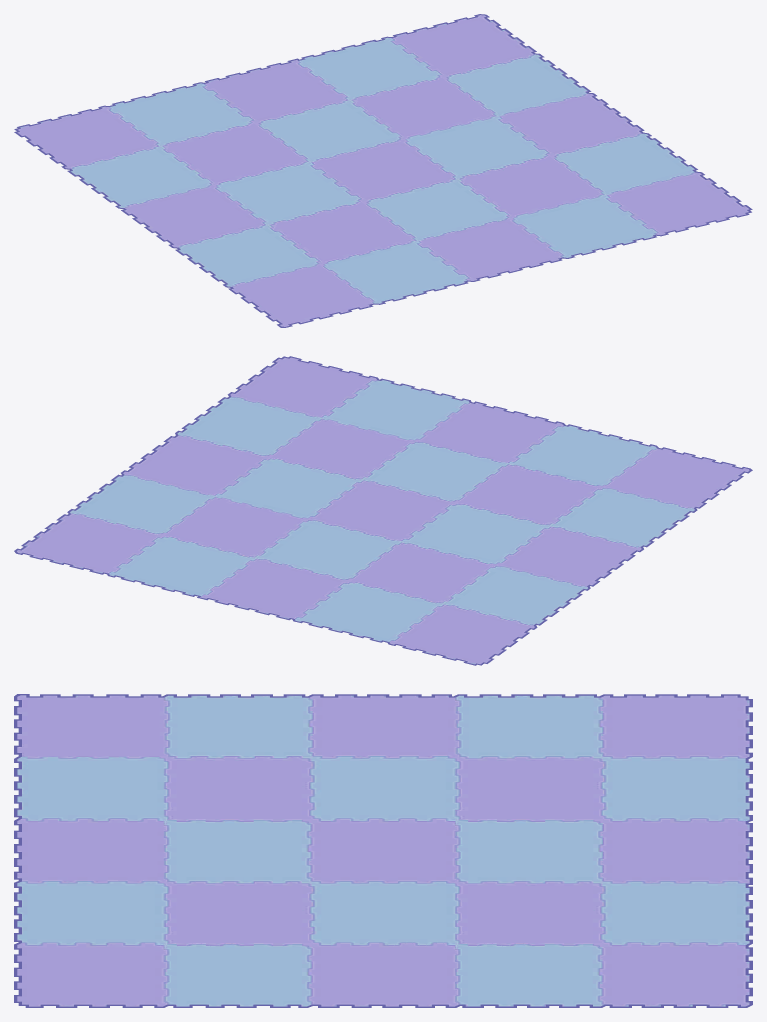
The model's file is my_shoppingmall_01_carpet_04.glb.
3 renders of one model, top to bottom at view 1: azimuth 30°, elevation 25°; view 2: azimuth 150°, elevation 25°; view 3: azimuth 270°, elevation 25°, orthographic. The views are drawn at different scales.
Visible parts, largest first — view 1: my_shoppingmall_01_carpet_04; view 2: my_shoppingmall_01_carpet_04; view 3: my_shoppingmall_01_carpet_04.
Part boxes in pixels (x1,y1,x2,y2): my_shoppingmall_01_carpet_04: (14,14,752,327); my_shoppingmall_01_carpet_04: (14,356,752,665); my_shoppingmall_01_carpet_04: (14,694,752,1007).
Size of the model in its own units: 0.0326 by 1.36e-08 by 0.0324.
Materials: 1 (1 with a texture image).
